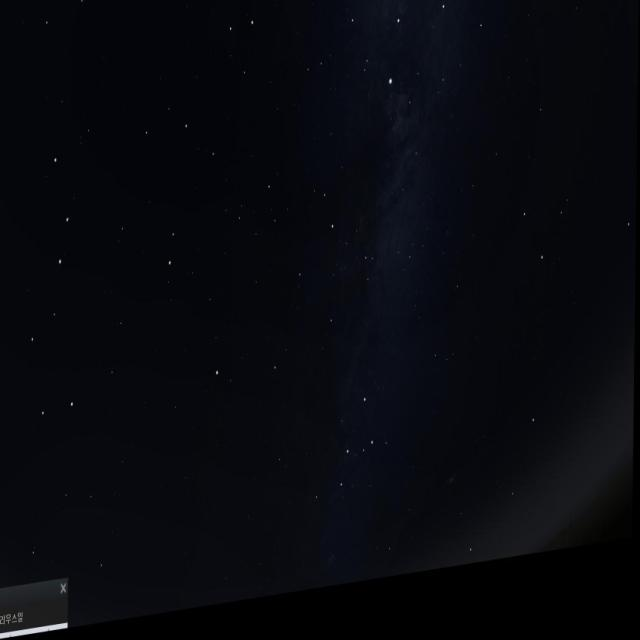cassiopeia: (314, 394, 390, 521)
cygnus: (346, 0, 452, 130)
ursa_major: (16, 115, 90, 434)
